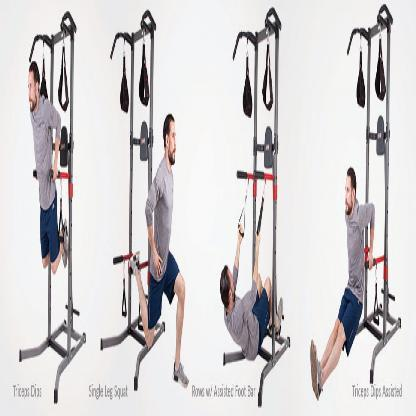chinning dipping: (19, 9, 86, 405)
